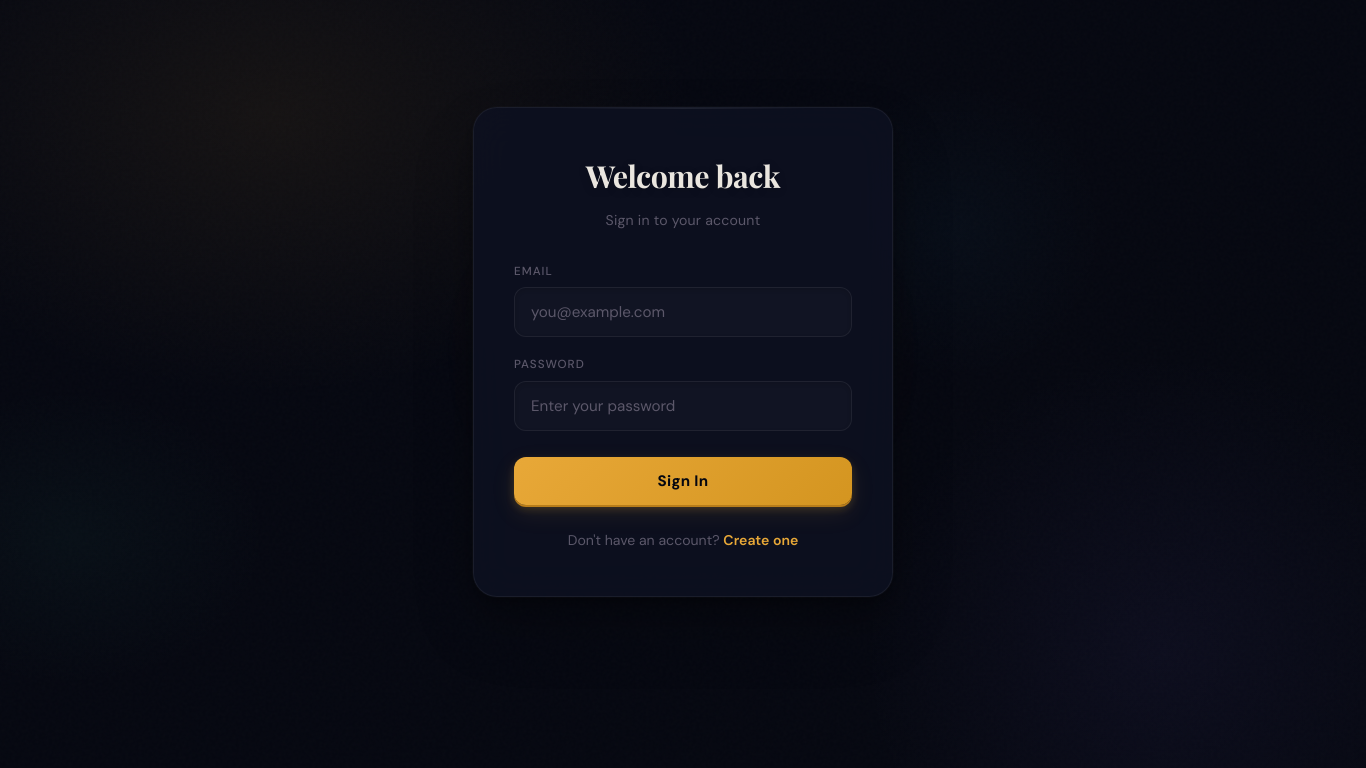
Test: Login › shows network error
In the field with placeholder "you@example.com": (683, 312) x1=514 y1=287 x2=852 y2=337, type "a@b.com"
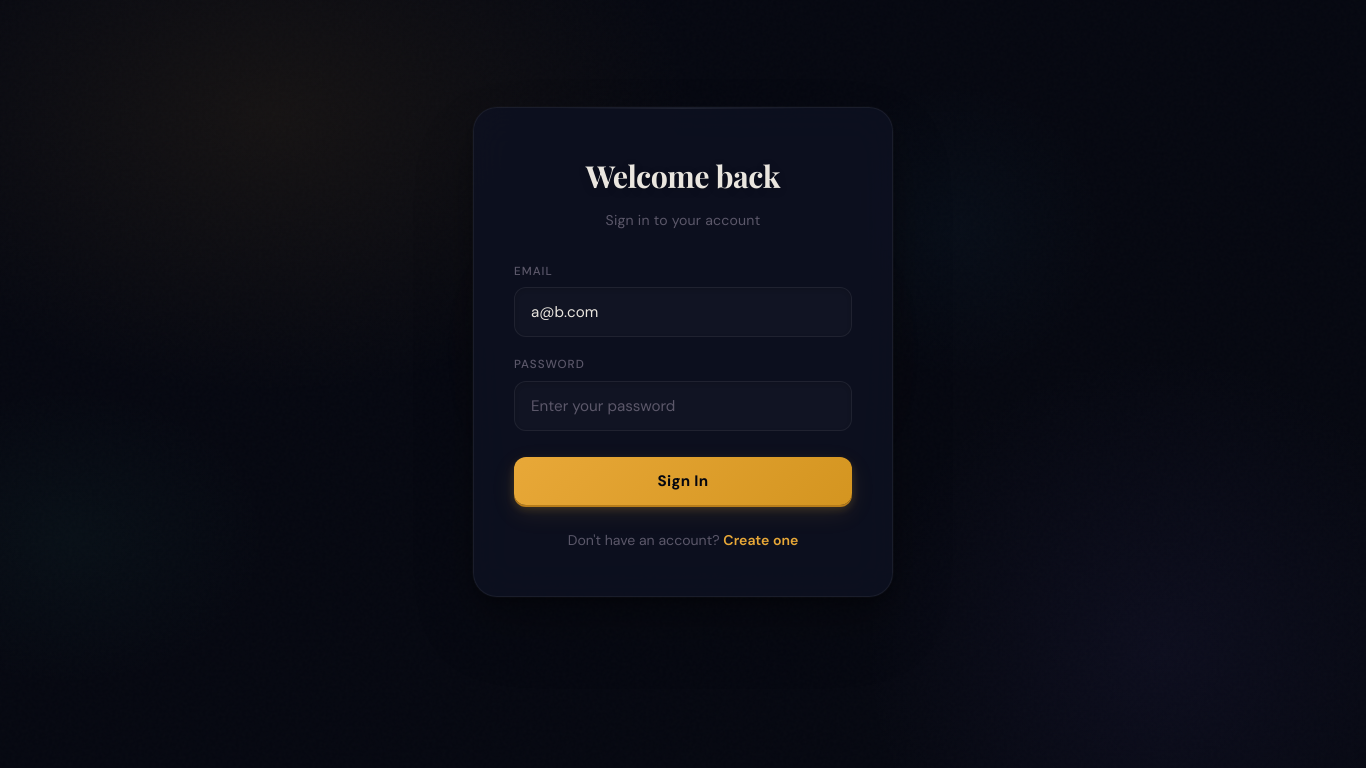
In the password field with placeholder "Enter your password": (683, 406) x1=514 y1=381 x2=852 y2=431, type "123456"
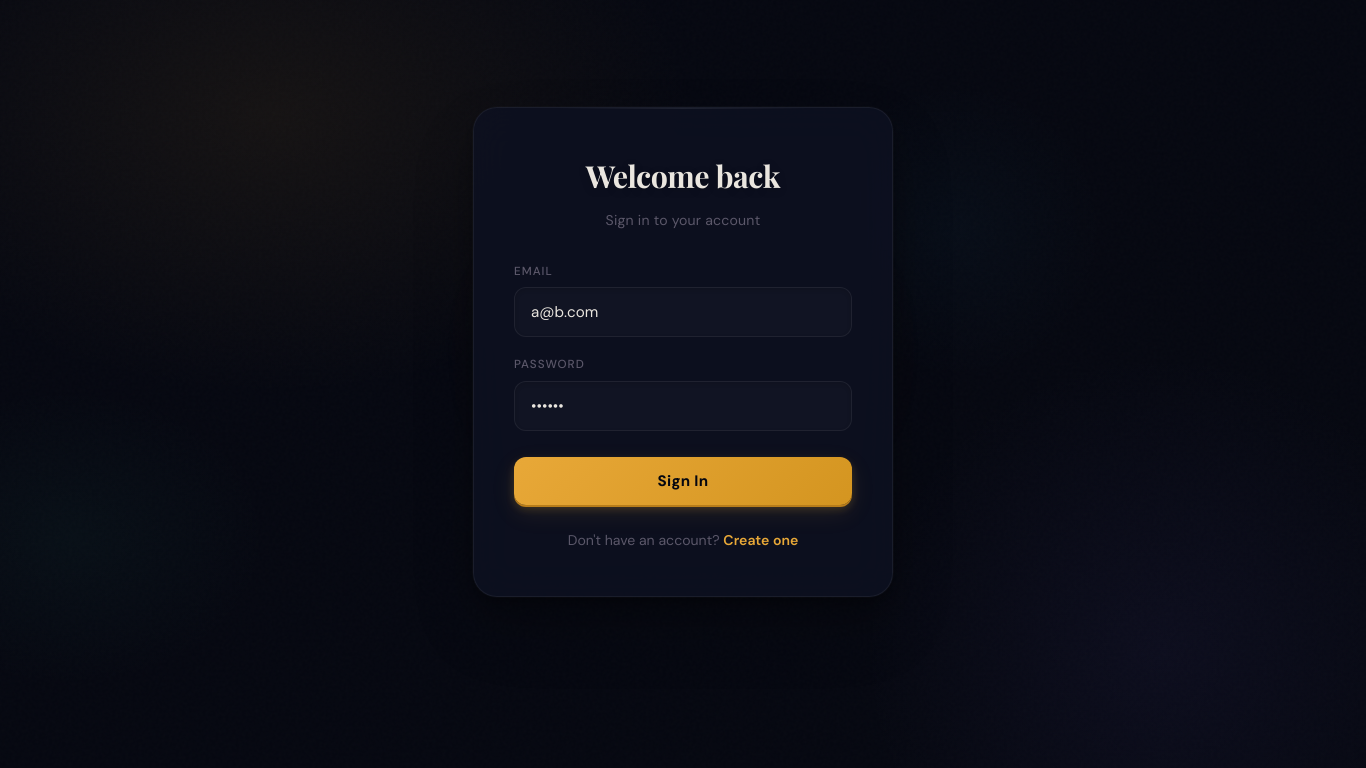
Click the button "Sign In": click(683, 481) x1=514 y1=457 x2=852 y2=505
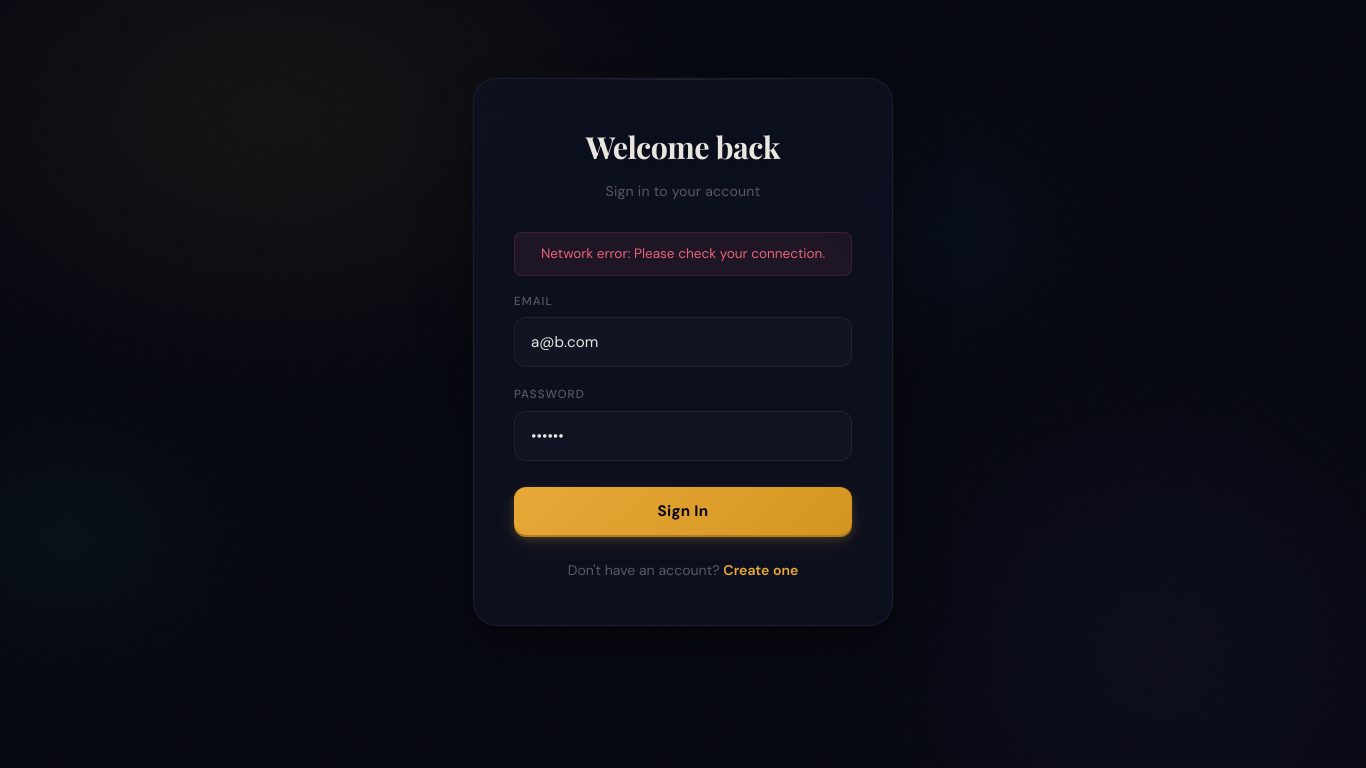
Now the text "Network error: Please check your connection." is shown, box x1=514 y1=232 x2=852 y2=276
